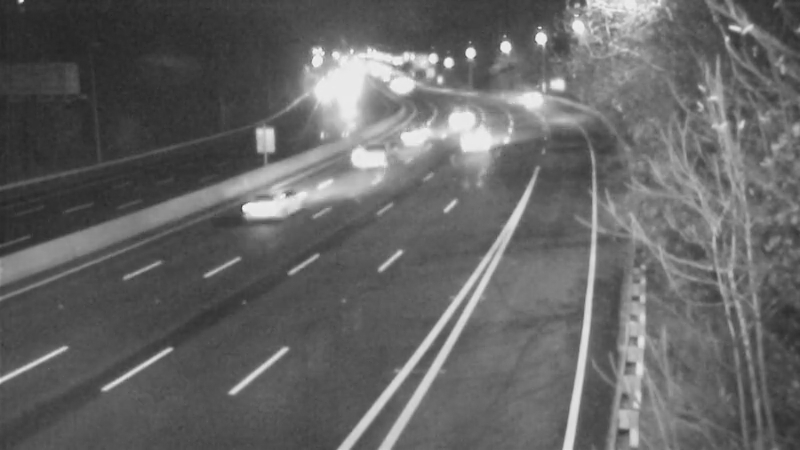vehicle: (333, 116, 413, 196), (222, 166, 302, 246), (501, 73, 551, 123), (430, 93, 480, 143), (386, 107, 436, 157), (453, 114, 503, 164)
